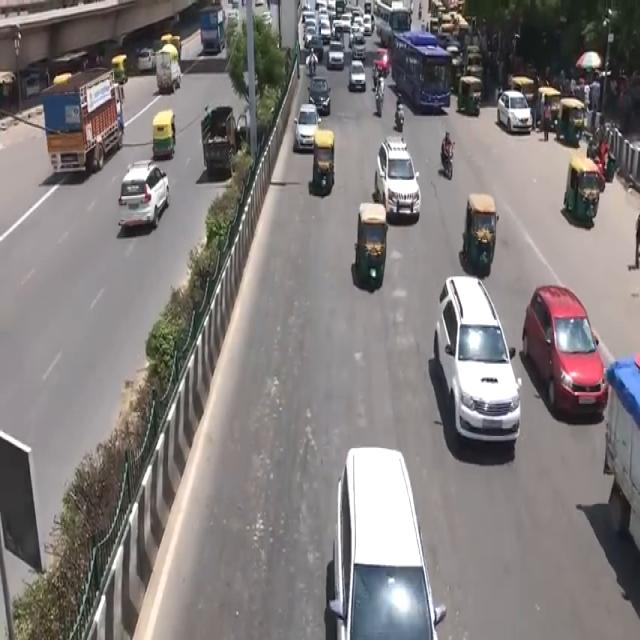BUS: (394, 36, 453, 116)
TRUCK: (42, 73, 122, 184)
